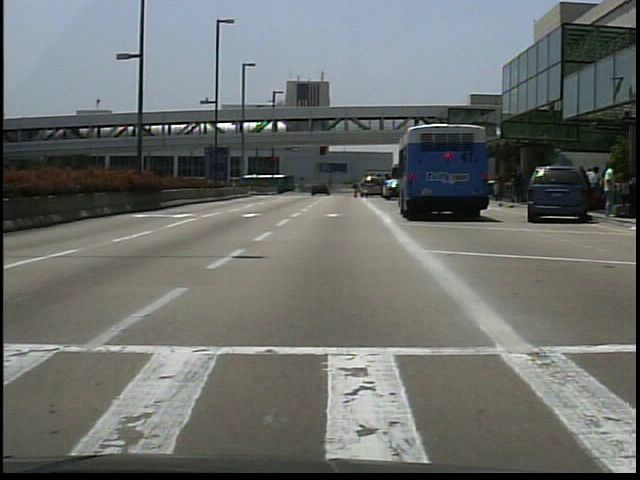person: (599, 162, 620, 218), (599, 165, 614, 214), (515, 169, 528, 205), (588, 165, 603, 183), (317, 182, 326, 198)
